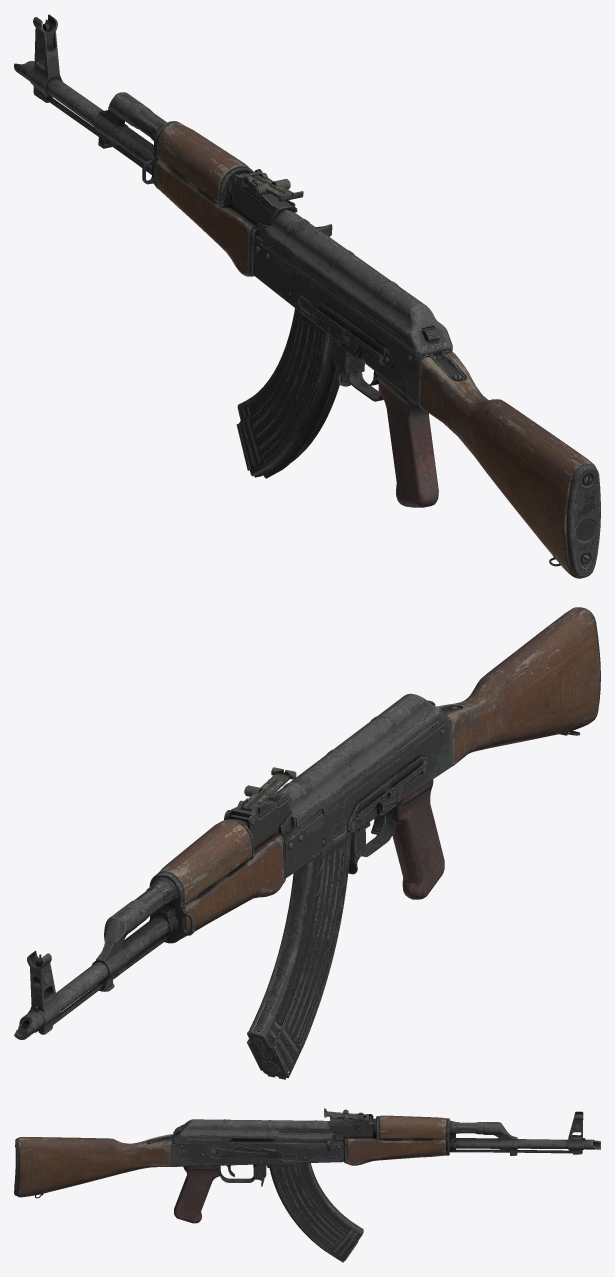
The picture shows the model from 3 angles, top to bottom: view 1: azimuth 30°, elevation 25°; view 2: azimuth 150°, elevation 25°; view 3: azimuth 270°, elevation 25°; orthographic projection. The views are drawn at different scales.
Parts seen in each view (by area): view 1: v_ak47_R; view 2: v_ak47_R; view 3: v_ak47_R.
Part boxes in pixels (x1=…): v_ak47_R: x1=14, y1=14, x2=600, y2=578; v_ak47_R: x1=14, y1=607, x2=600, y2=1079; v_ak47_R: x1=14, y1=1108, x2=600, y2=1262.
Bounding box in the file's own units: 0.0721 × 0.2712 × 0.9483.
1 material, 1 textured.
